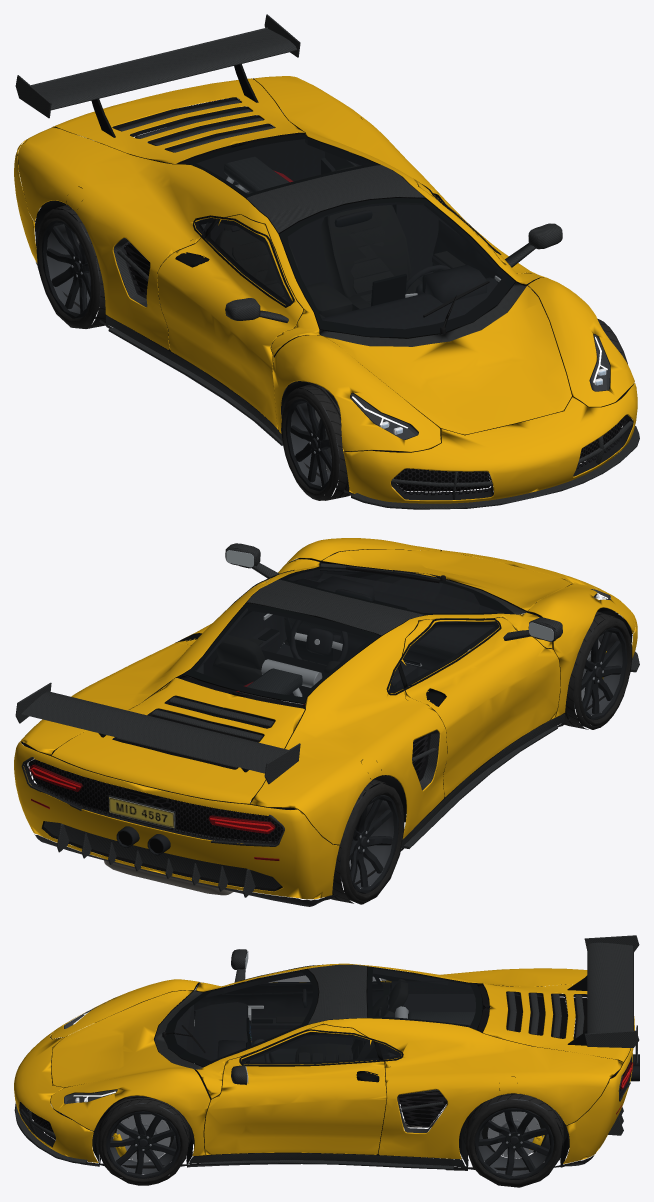
The model's file is mid-engine-supercar.glb.
The picture shows the model from 3 angles, top to bottom: view 1: azimuth 30°, elevation 25°; view 2: azimuth 150°, elevation 25°; view 3: azimuth 270°, elevation 25°; orthographic projection. The views are drawn at different scales.
Visible parts, largest first — view 1: Body, Wheel_RR, Wheel_FR; view 2: Body, Wheel_RR, Wheel_FR, Steering_Wheel; view 3: Body, Wheel_RL, Wheel_FL.
Boxes of the visible parts, box(x1,y1,x2,y2) form: Body: box(14, 14, 639, 509); Wheel_RR: box(36, 205, 105, 328); Wheel_FR: box(281, 384, 353, 500); Body: box(14, 538, 639, 906); Wheel_RR: box(328, 779, 404, 904); Wheel_FR: box(562, 611, 632, 729); Steering_Wheel: box(289, 619, 348, 662); Body: box(14, 935, 639, 1170); Wheel_RL: box(464, 1094, 564, 1187); Wheel_FL: box(97, 1096, 189, 1185).
Size of the model in its own units: 2.14 by 1.16 by 4.46.
59 materials, 12 textured.
